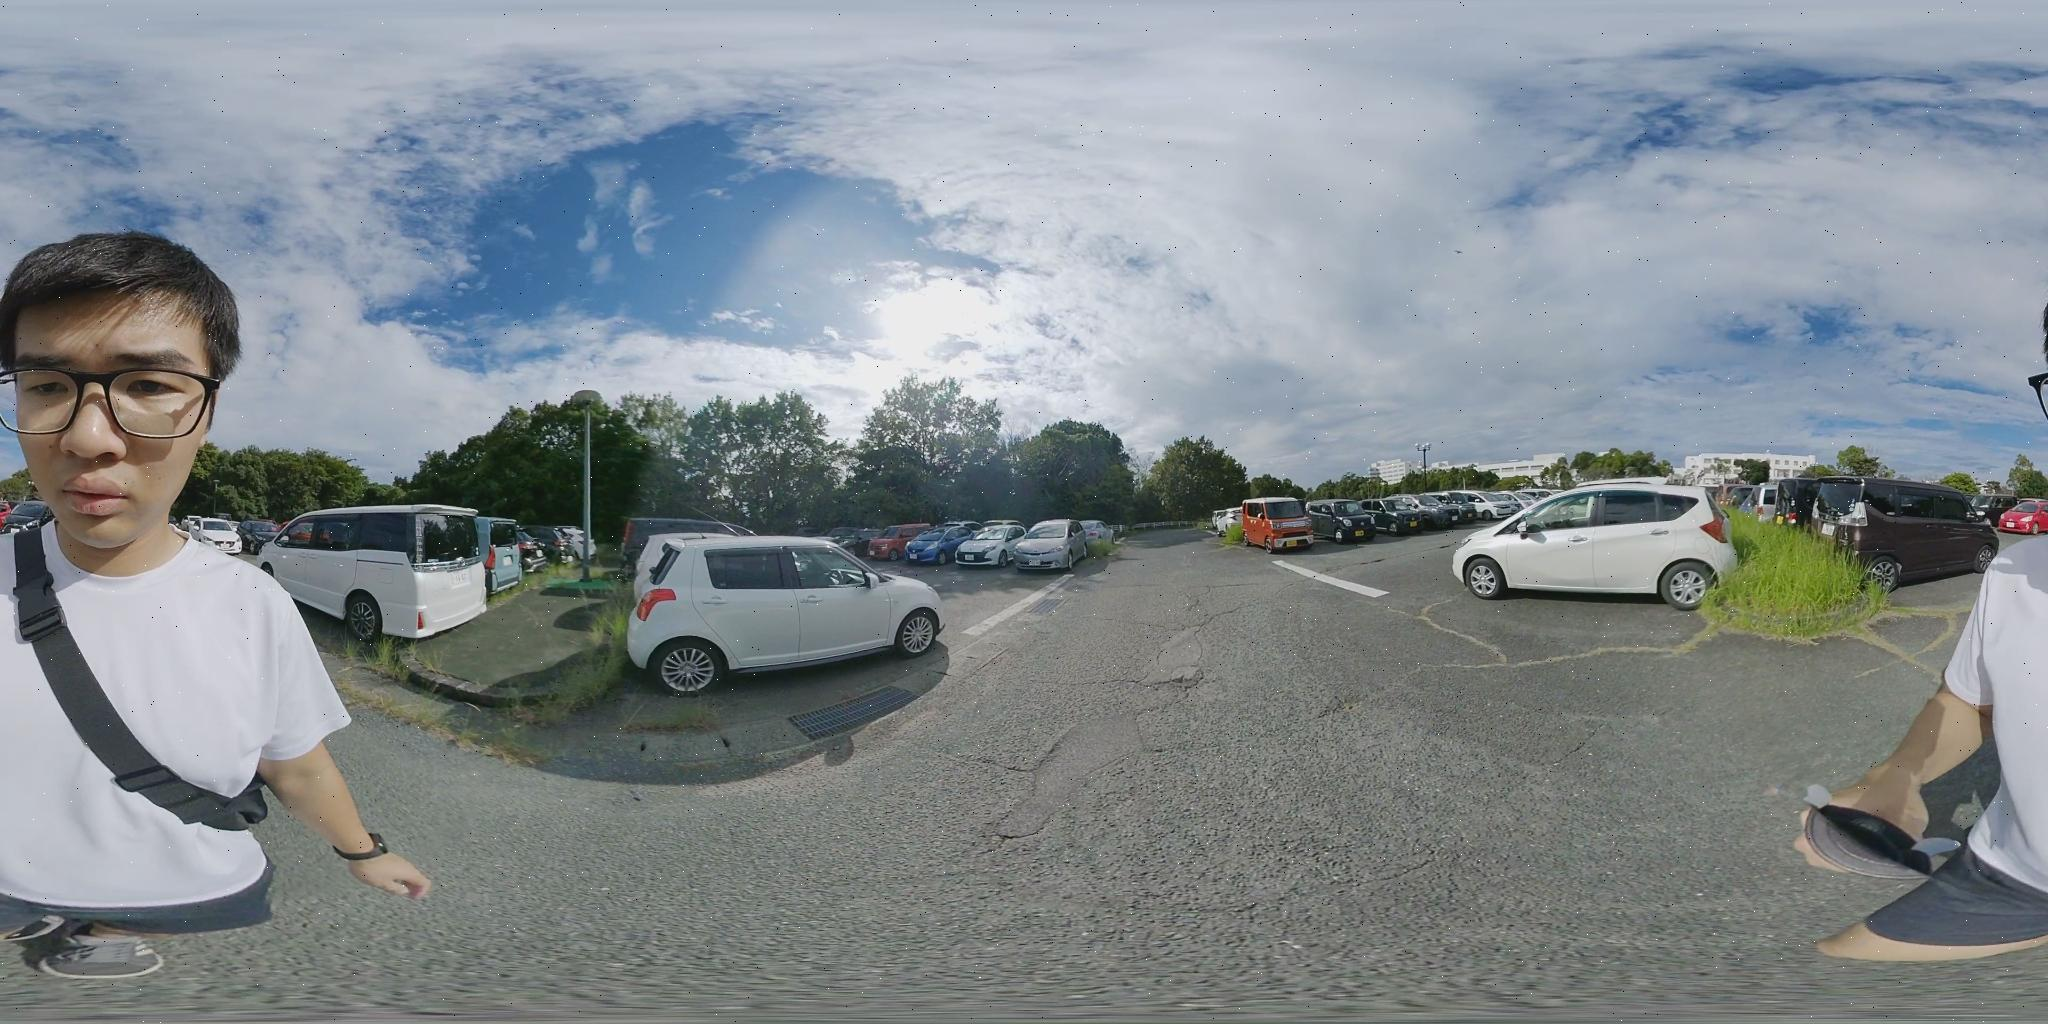car: (622, 536, 944, 691), (1456, 485, 1744, 606), (259, 508, 494, 635), (1818, 479, 2000, 590), (616, 519, 750, 569), (981, 521, 1093, 571), (1323, 499, 1415, 539), (904, 525, 978, 563), (184, 519, 256, 551), (1994, 499, 2045, 533)
